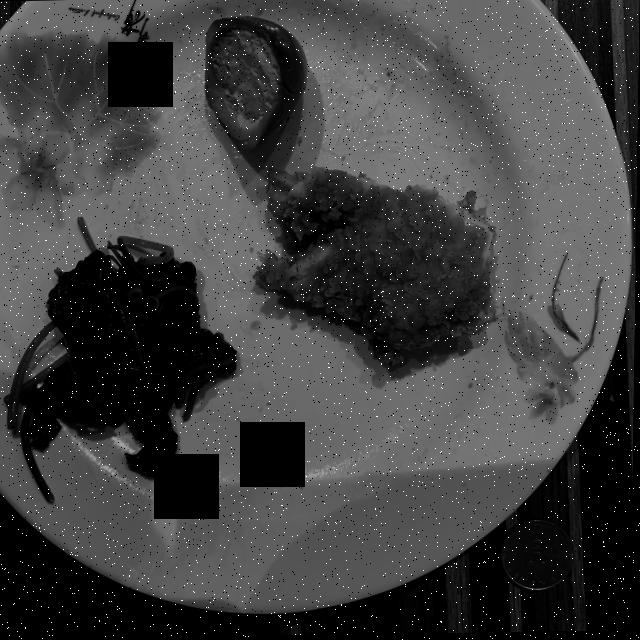coin: (503, 520, 574, 591)
fried chicken cutlet: (254, 167, 494, 368)
soy egg: (205, 16, 307, 150)
sweet potato leaves: (5, 216, 236, 503)
